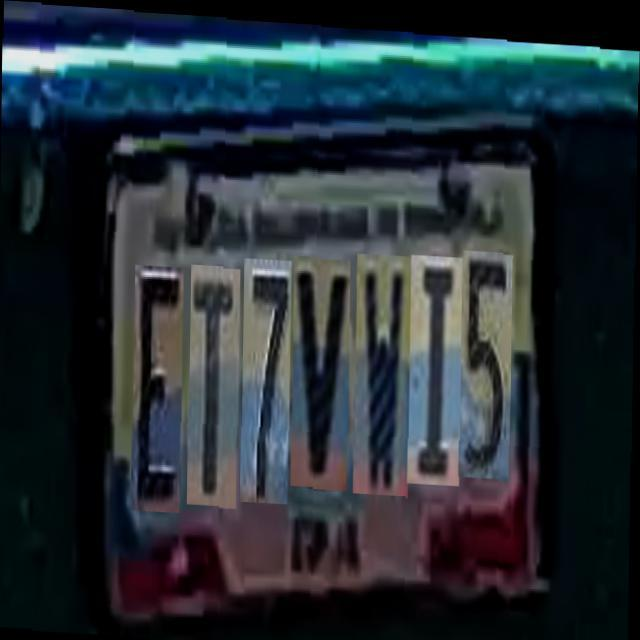5: (460, 237, 512, 466)
7: (242, 251, 292, 497)
E: (132, 261, 184, 509)
I: (408, 242, 464, 473)
T: (188, 260, 240, 502)
V: (292, 248, 351, 481)
W: (354, 243, 412, 486)
